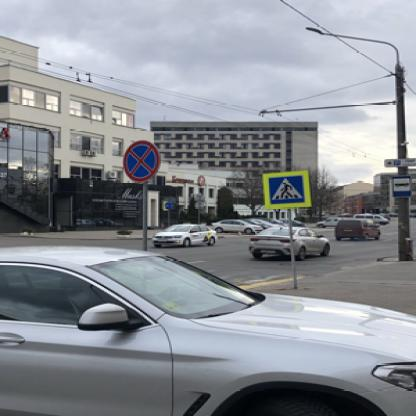crosswalk: (265, 174, 304, 204)
